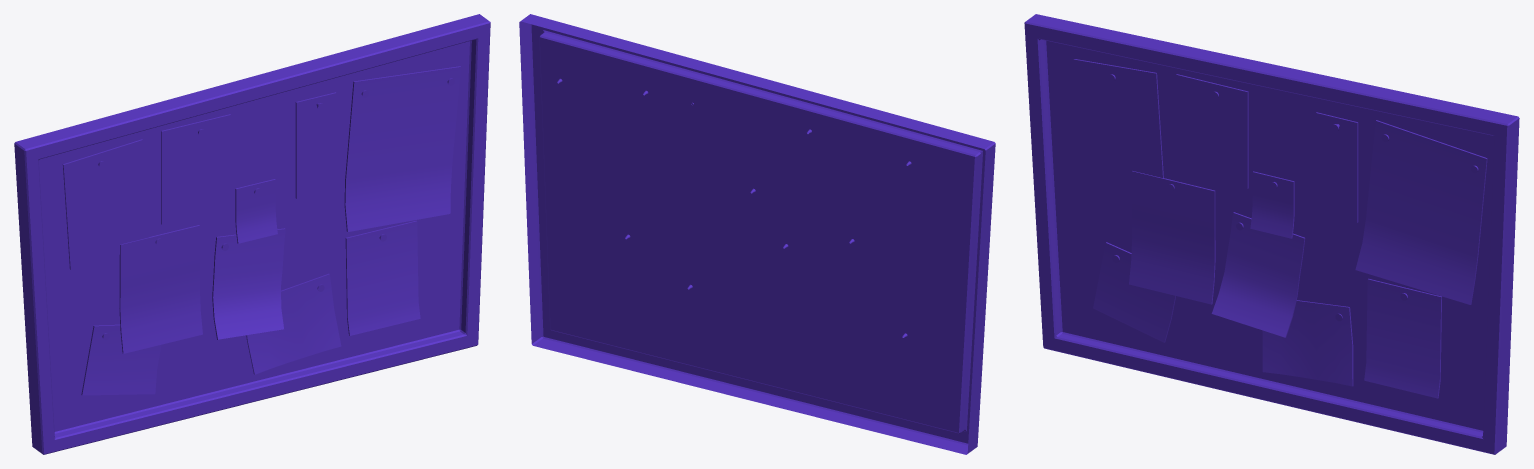
The model's file is GalleryPhoto.fbx.
3 views of the same model, side by side, from view 1: azimuth 30°, elevation 25°; view 2: azimuth 150°, elevation 25°; view 3: azimuth 330°, elevation 25° (orthographic). The views are drawn at different scales.
Parts seen in each view (by area): view 1: SM_Corkboard, SM_Paper.007, SM_Pins.007; view 2: SM_Corkboard; view 3: SM_Corkboard, SM_Paper.007, SM_Pins.007.
Part boxes in pixels (box(x1,y1,x2,y2)): SM_Corkboard: box(14, 14, 490, 454); SM_Paper.007: box(62, 66, 460, 395); SM_Pins.007: box(98, 78, 454, 340); SM_Corkboard: box(519, 14, 995, 454); SM_Corkboard: box(1024, 14, 1519, 454); SM_Paper.007: box(1073, 59, 1487, 398); SM_Pins.007: box(1108, 74, 1478, 321).
Bounding box in the file's own units: 313 × 208 × 19.5.
